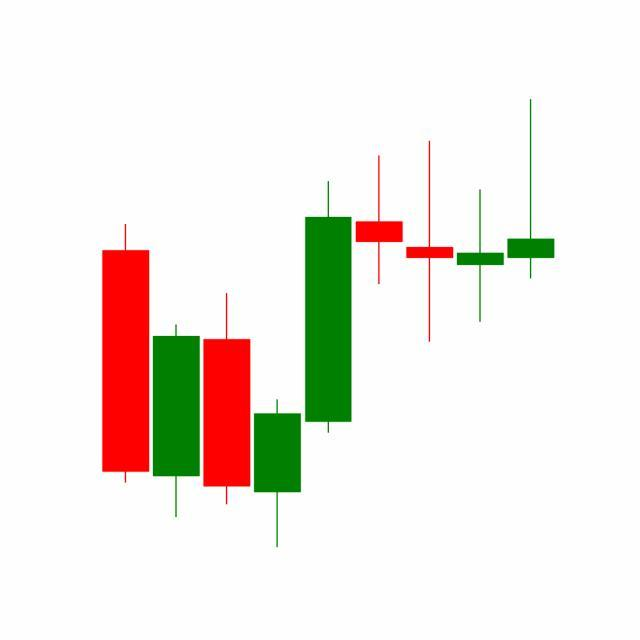Hikkake Pattern: (302, 99, 555, 437)
